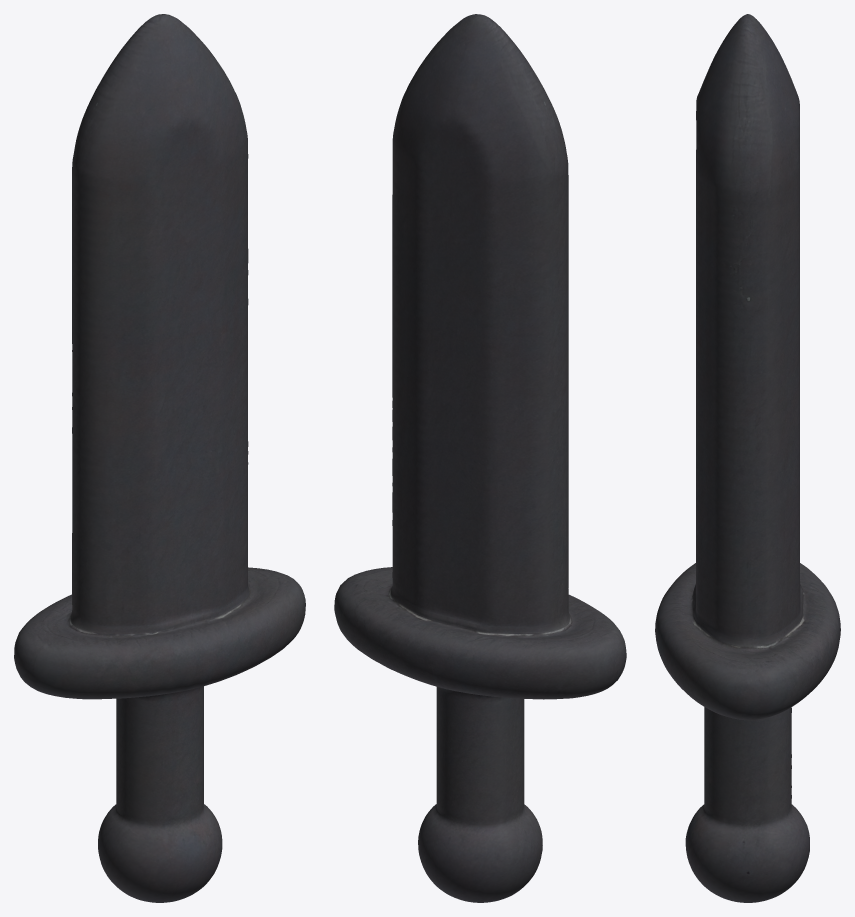
The model's file is SwordWeapon_GLB.glb.
3 renders of one model, left to right at view 1: azimuth 30°, elevation 25°; view 2: azimuth 150°, elevation 25°; view 3: azimuth 270°, elevation 25°, orthographic.
Parts seen in each view (by area): view 1: texture_mapping; view 2: texture_mapping; view 3: texture_mapping.
Boxes of the visible parts, bbox=[...] form: texture_mapping: bbox=[14, 14, 305, 902]; texture_mapping: bbox=[334, 14, 626, 902]; texture_mapping: bbox=[655, 14, 840, 902].
Bounding box in the file's own units: 0.3329 × 1 × 0.1917.
Materials: 1 (1 with a texture image).
